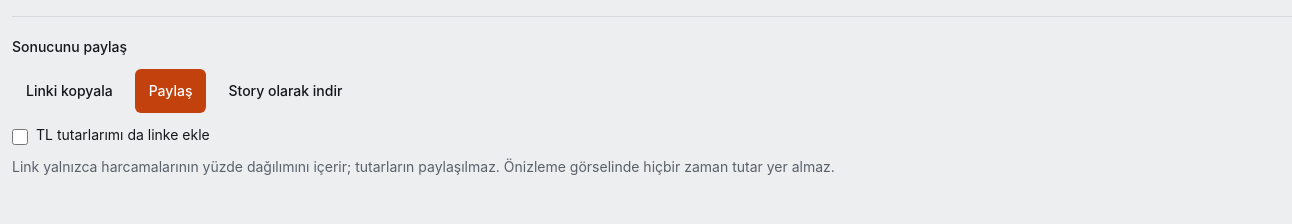
Scenario: ShareActions › kopyalama başarısızsa yönlendirir
What coordinates should you click on to do the following:
click the button "Linki kopyala"
I would click on:
 (69, 91)
Its box is [12,69,127,113].
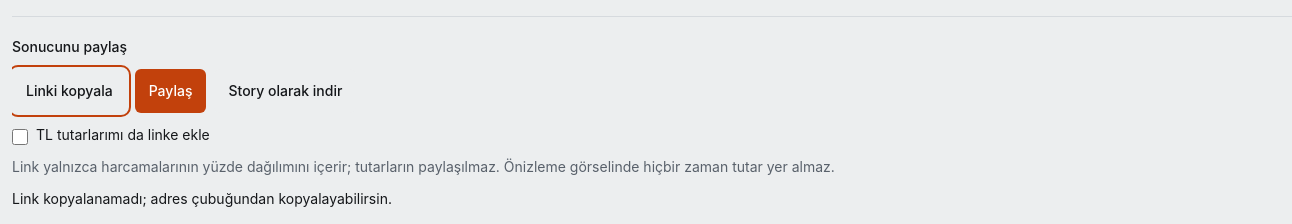
Now the message shows "kopyalanamadı", box [12,190,392,207]
